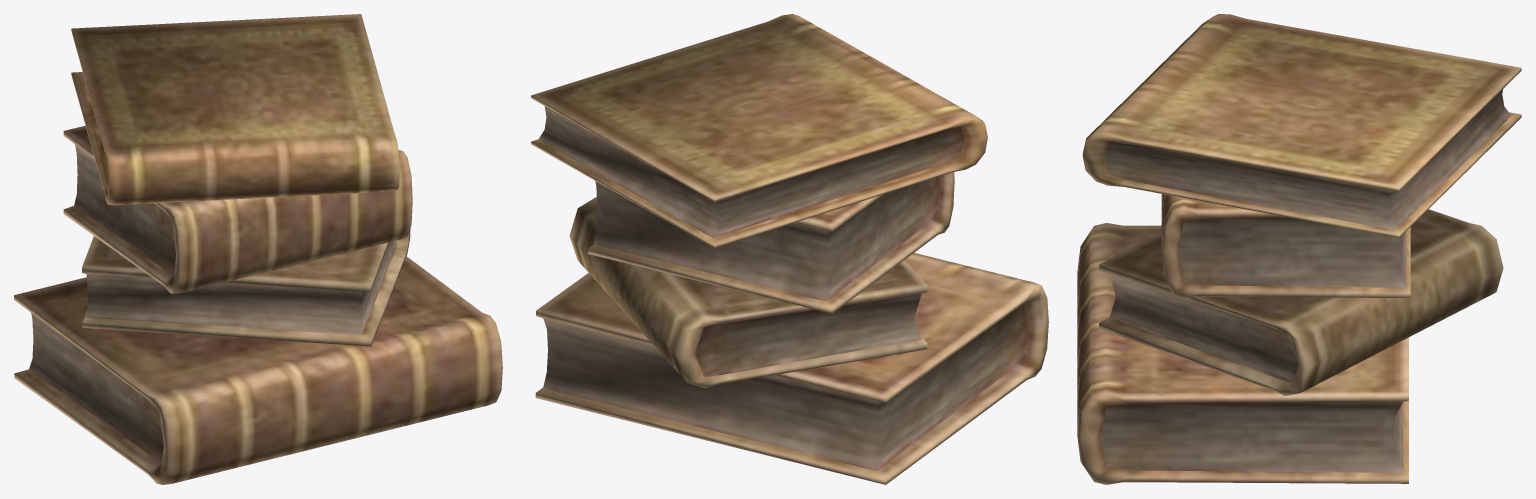
The model's file is book_pile_01_a.glb.
3 views of the same model, side by side, from view 1: azimuth 30°, elevation 25°; view 2: azimuth 150°, elevation 25°; view 3: azimuth 270°, elevation 25° (orthographic). The views are drawn at different scales.
Visible parts, largest first — view 1: global_props_book_pile_01_a; view 2: global_props_book_pile_01_a; view 3: global_props_book_pile_01_a.
Part boxes in pixels (x1,y1,x2,y2): global_props_book_pile_01_a: (14, 14, 502, 484); global_props_book_pile_01_a: (531, 14, 1048, 484); global_props_book_pile_01_a: (1077, 14, 1521, 484).
Size of the model in its own units: 0.574 by 0.4478 by 0.5944.
Materials: 1 (1 with a texture image).
